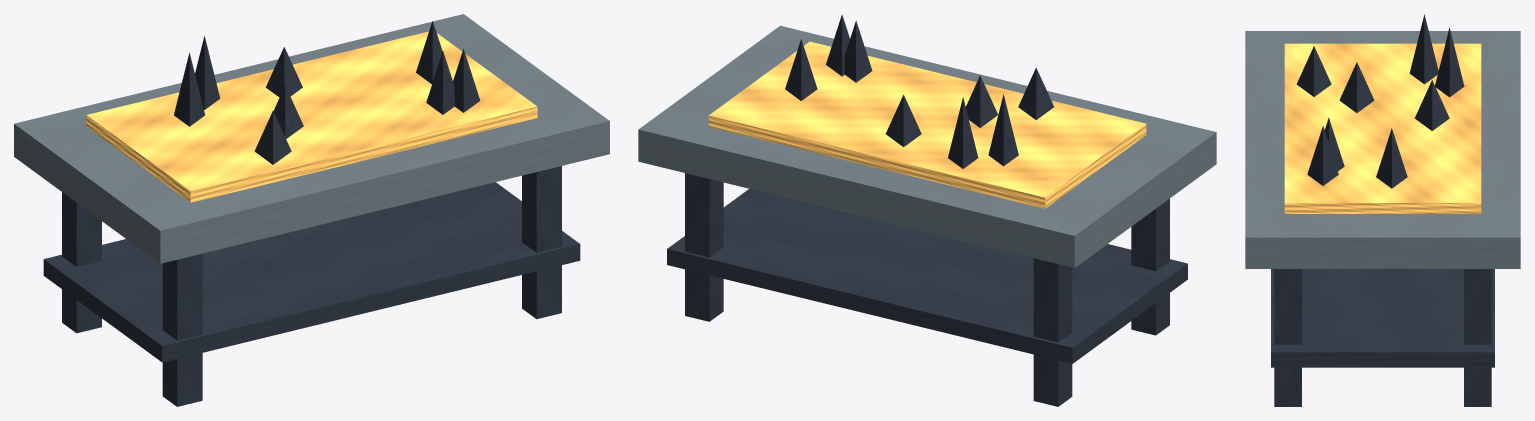
File: atlas100-s024-a02.lod2.glb
3 renders of one model, left to right at view 1: azimuth 30°, elevation 25°; view 2: azimuth 150°, elevation 25°; view 3: azimuth 270°, elevation 25°, orthographic. The views are drawn at different scales.
Parts seen in each view (by area): view 1: atlas100-s024-a02:part-004, atlas100-s024-a02:part-005, atlas100-s024-a02:part-006, atlas100-s024-a02:part-001, atlas100-s024-a02:part-003, atlas100-s024-a02:part-000, atlas100-s024-a02:part-012, atlas100-s024-a02:part-014, atlas100-s024-a02:part-007, atlas100-s024-a02:part-011, atlas100-s024-a02:part-009, atlas100-s024-a02:part-013 (+2 smaller); view 2: atlas100-s024-a02:part-004, atlas100-s024-a02:part-005, atlas100-s024-a02:part-006, atlas100-s024-a02:part-000, atlas100-s024-a02:part-002, atlas100-s024-a02:part-001, atlas100-s024-a02:part-012, atlas100-s024-a02:part-009, atlas100-s024-a02:part-008, atlas100-s024-a02:part-014, atlas100-s024-a02:part-013, atlas100-s024-a02:part-007 (+2 smaller); view 3: atlas100-s024-a02:part-004, atlas100-s024-a02:part-006, atlas100-s024-a02:part-005, atlas100-s024-a02:part-002, atlas100-s024-a02:part-003, atlas100-s024-a02:part-009, atlas100-s024-a02:part-012, atlas100-s024-a02:part-008, atlas100-s024-a02:part-011, atlas100-s024-a02:part-010, atlas100-s024-a02:part-007, atlas100-s024-a02:part-013 (+1 smaller).
Part boxes in pixels (x1,y1,x2,y2): atlas100-s024-a02:part-004: [14, 14, 609, 263]; atlas100-s024-a02:part-005: [43, 182, 580, 362]; atlas100-s024-a02:part-006: [86, 31, 537, 202]; atlas100-s024-a02:part-001: [162, 253, 202, 406]; atlas100-s024-a02:part-003: [522, 166, 561, 319]; atlas100-s024-a02:part-000: [62, 192, 101, 333]; atlas100-s024-a02:part-012: [174, 52, 204, 126]; atlas100-s024-a02:part-014: [426, 51, 454, 114]; atlas100-s024-a02:part-007: [254, 111, 291, 164]; atlas100-s024-a02:part-011: [453, 49, 480, 112]; atlas100-s024-a02:part-009: [195, 36, 220, 109]; atlas100-s024-a02:part-013: [265, 47, 302, 97]; atlas100-s024-a02:part-004: [638, 25, 1216, 267]; atlas100-s024-a02:part-005: [667, 189, 1187, 363]; atlas100-s024-a02:part-006: [708, 41, 1146, 208]; atlas100-s024-a02:part-000: [1033, 258, 1072, 406]; atlas100-s024-a02:part-002: [685, 173, 723, 321]; atlas100-s024-a02:part-001: [1131, 198, 1169, 335]; atlas100-s024-a02:part-012: [988, 94, 1018, 166]; atlas100-s024-a02:part-009: [948, 97, 978, 168]; atlas100-s024-a02:part-008: [785, 39, 817, 100]; atlas100-s024-a02:part-014: [844, 20, 872, 82]; atlas100-s024-a02:part-013: [885, 94, 921, 147]; atlas100-s024-a02:part-007: [1018, 67, 1053, 119]; atlas100-s024-a02:part-004: [1245, 31, 1520, 268]; atlas100-s024-a02:part-006: [1284, 43, 1481, 213]; atlas100-s024-a02:part-005: [1271, 269, 1494, 367]; atlas100-s024-a02:part-002: [1464, 269, 1491, 406]; atlas100-s024-a02:part-003: [1274, 269, 1301, 406]; atlas100-s024-a02:part-009: [1435, 27, 1464, 97]; atlas100-s024-a02:part-012: [1409, 14, 1438, 84]; atlas100-s024-a02:part-008: [1376, 128, 1407, 188]; atlas100-s024-a02:part-011: [1307, 126, 1338, 185]; atlas100-s024-a02:part-010: [1339, 62, 1374, 112]; atlas100-s024-a02:part-007: [1296, 46, 1331, 96]; atlas100-s024-a02:part-013: [1414, 80, 1449, 130].
Bounding box in the file's own units: 2.84 × 1.65 × 1.6.
Materials: 3 (3 with a texture image).
